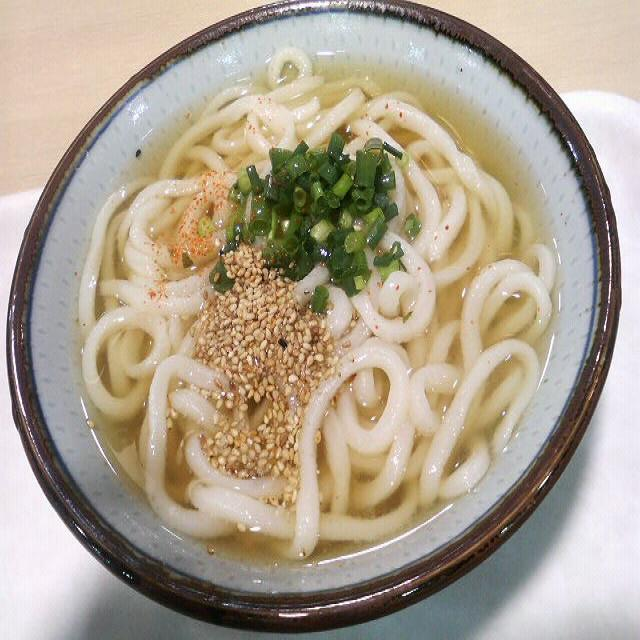面条主食: (52, 26, 578, 614)
